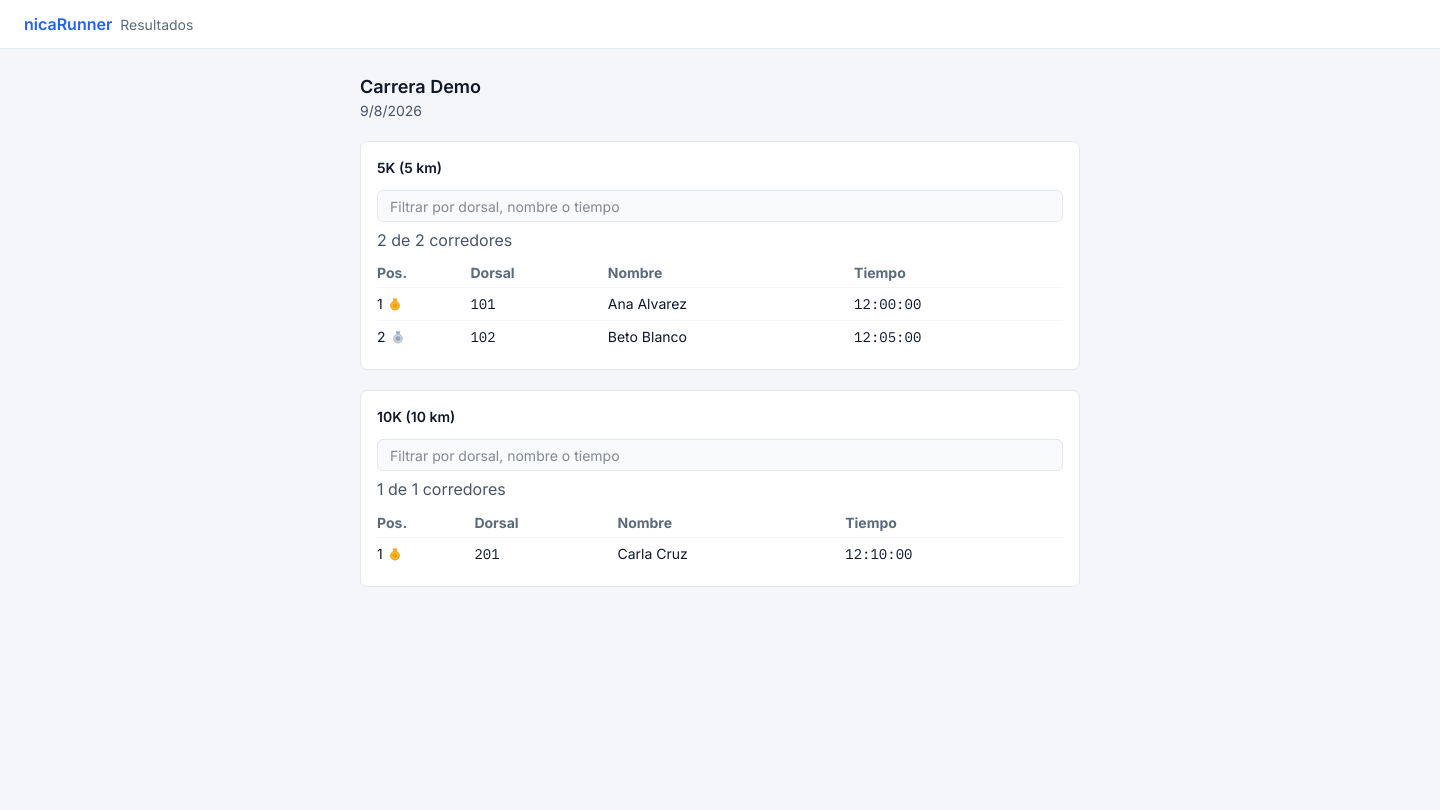
PublicResultsPage per-category filter › empty-after-filter shows a category-scoped EmptyState with a working "Limpiar filtro" action
The width and height of the screenshot is (1440, 810).
Expected: the text "Ana Alvarez" is shown, 608,288 -> 854,321
Type "nadie-coincide" into the field named "Filtrar corredores".
click(720, 206); type("nadie-coincide")  # box 377,190 -> 1063,222
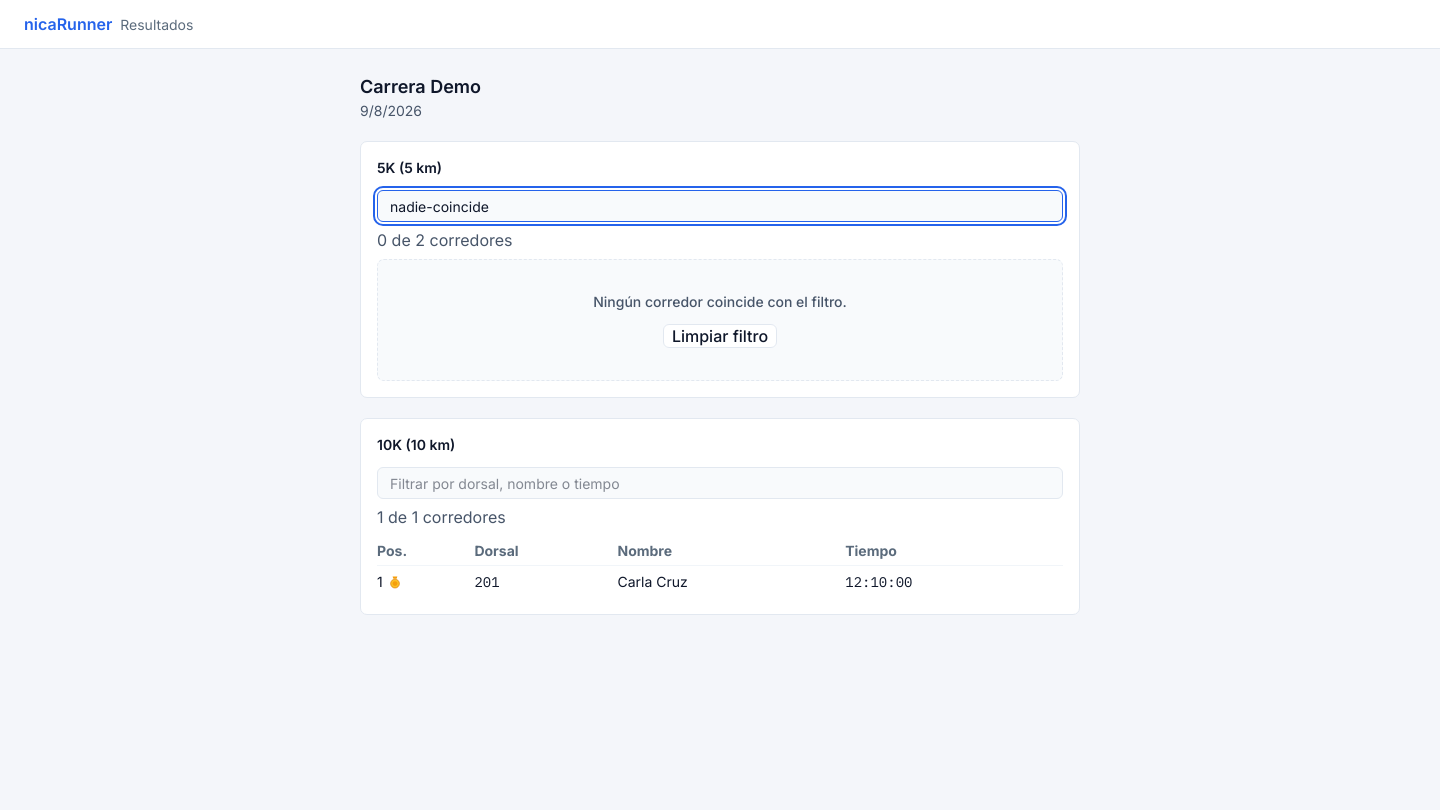
Expected: the text "Ningún corredor coincide con el filtro." is shown, 593,292 -> 847,312
Expected: the button "Ana Alvarez" is gone
Click the button "Limpiar filtro".
click(720, 336)  # box 663,324 -> 777,348
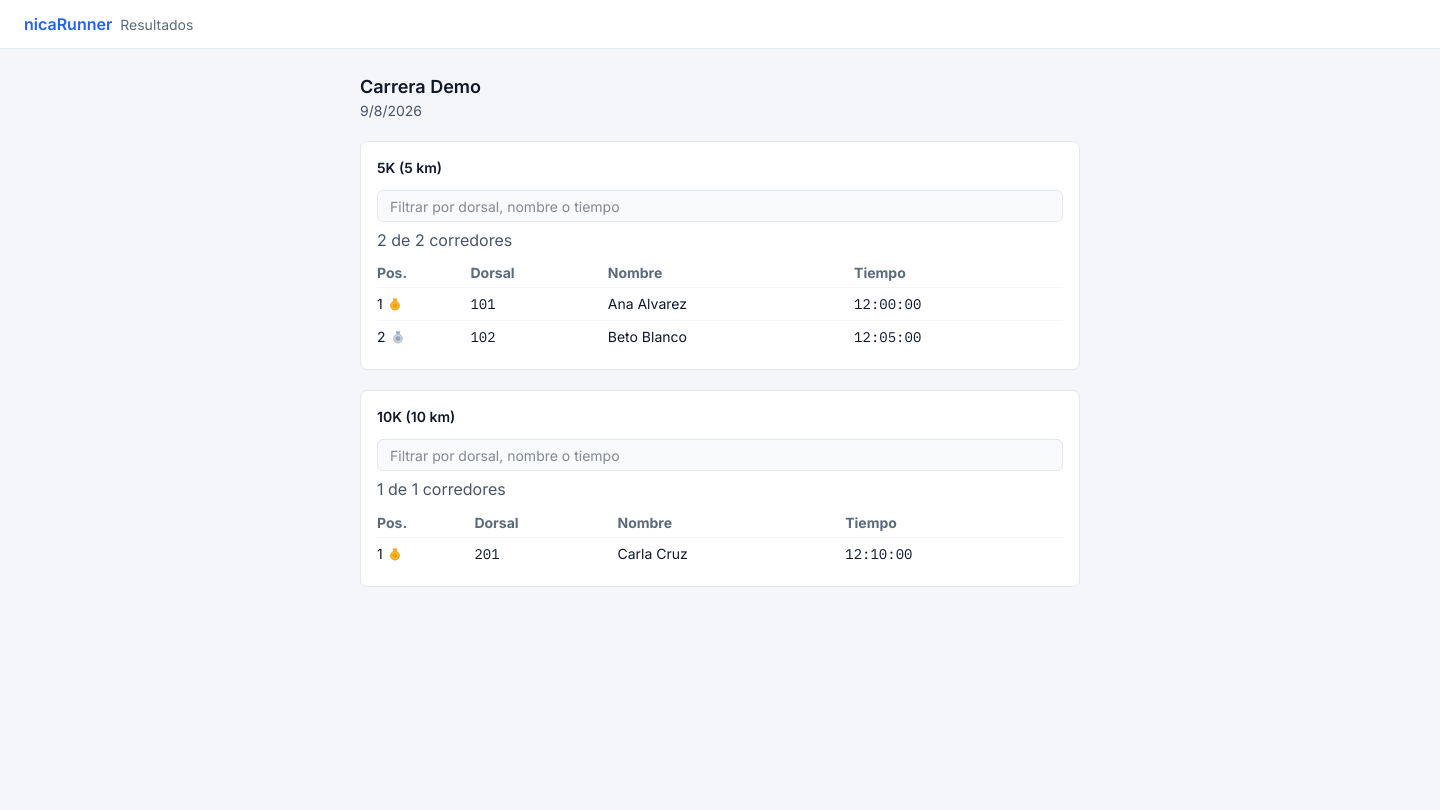
Expected: the text "Ana Alvarez" is shown, 608,288 -> 854,321
Expected: the text "2 de 2 corredores" is shown, 377,230 -> 512,250
